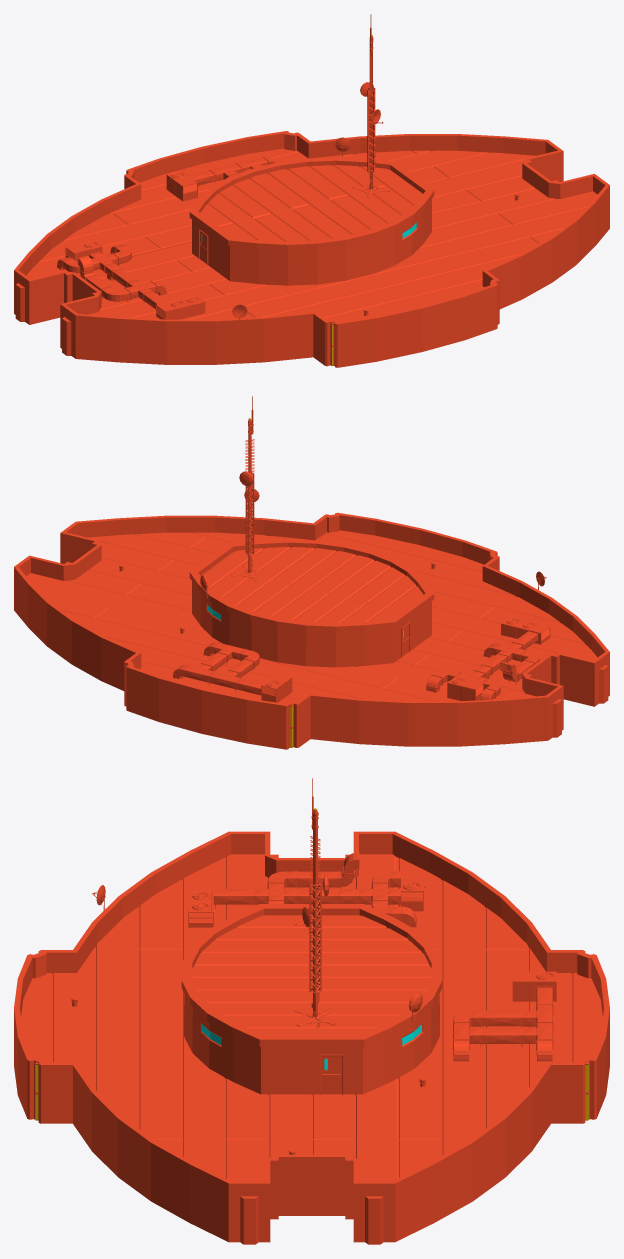
The model's file is SM_Skyscraper_B_Roof_City.fbx.
The picture shows the model from 3 angles, top to bottom: view 1: azimuth 30°, elevation 25°; view 2: azimuth 150°, elevation 25°; view 3: azimuth 270°, elevation 25°; orthographic projection. The views are drawn at different scales.
Parts seen in each view (by area): view 1: SM_Skyscraper_B_Roof_City; view 2: SM_Skyscraper_B_Roof_City; view 3: SM_Skyscraper_B_Roof_City.
Part boxes in pixels (x1,y1,x2,y2): SM_Skyscraper_B_Roof_City: [14, 14, 609, 367]; SM_Skyscraper_B_Roof_City: [14, 396, 609, 749]; SM_Skyscraper_B_Roof_City: [14, 778, 609, 1244].
Size of the model in its own units: 40.55 by 17.33 by 28.64.
